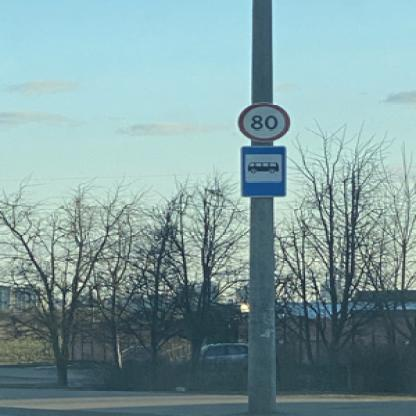speedlimit: (237, 101, 289, 140)
